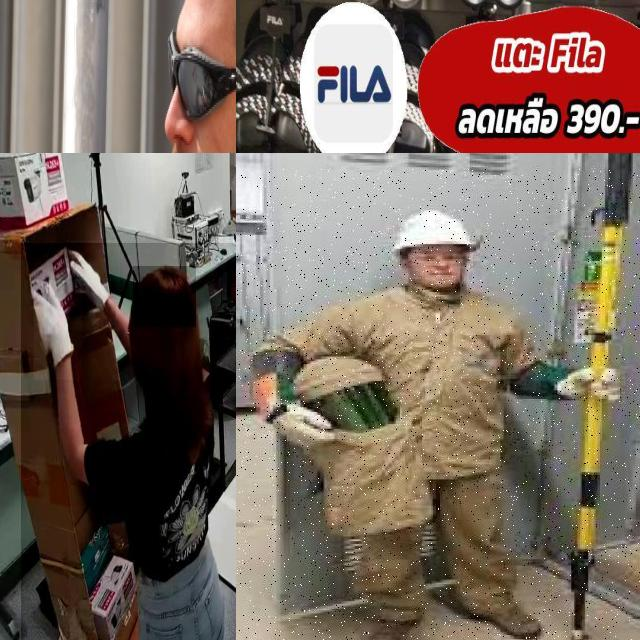boots: (476, 600, 551, 640), (360, 608, 432, 640)
glasses: (156, 15, 236, 121)
hand_glove: (66, 240, 120, 331), (34, 280, 82, 380), (269, 406, 338, 449), (546, 366, 622, 405)
head_helmet: (391, 207, 482, 267)
head_nohelmet: (133, 266, 197, 328)
person: (244, 197, 575, 640), (21, 243, 236, 640)
